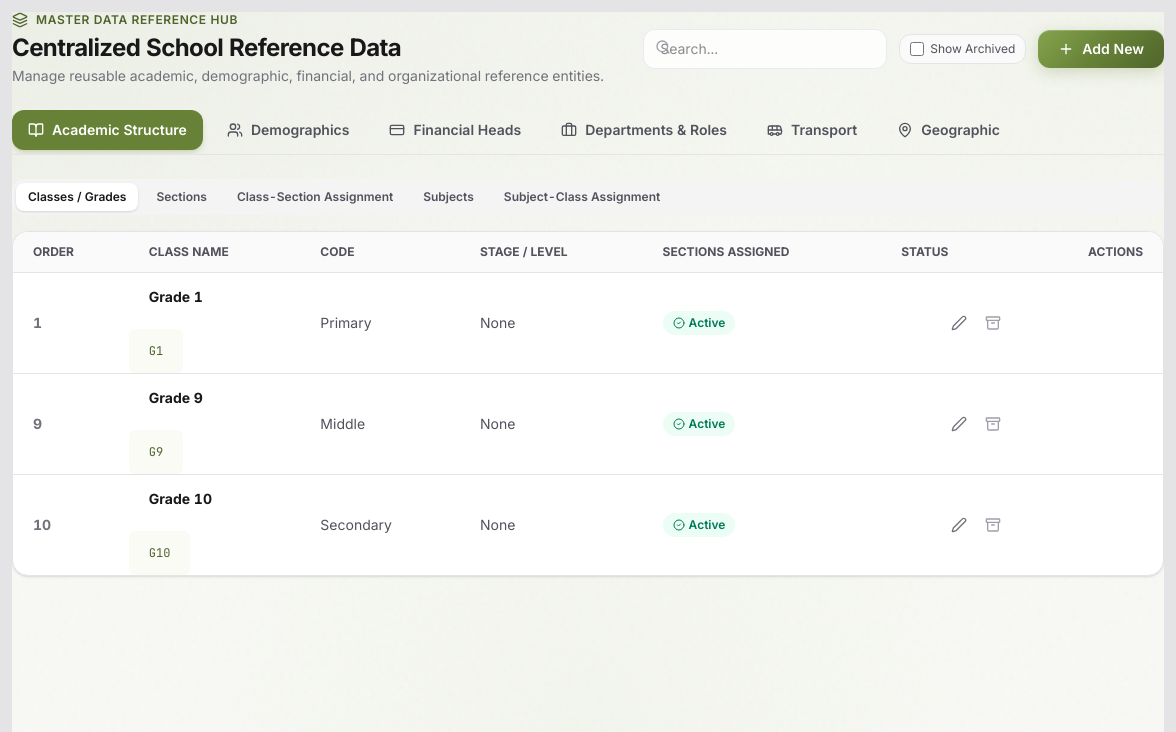
Test: MasterData Search and Filtering Unit Tests › resets search query when switching academic sub-tabs
Type "Grade 1" into the field with placeholder "Search..." at coordinates (765, 49), box top-left (643, 29), bottom-right (887, 69)
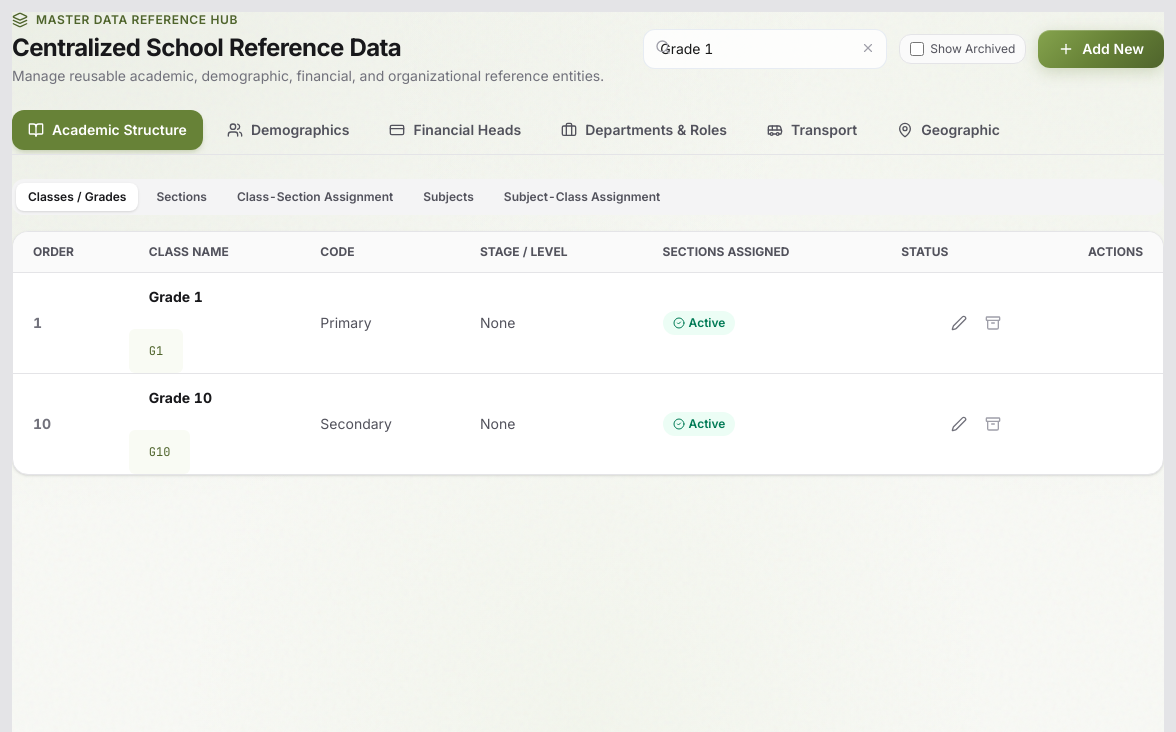
# Switch to Sections subtab
Click the button "Sections" at coordinates (182, 197), box top-left (144, 183), bottom-right (219, 211)
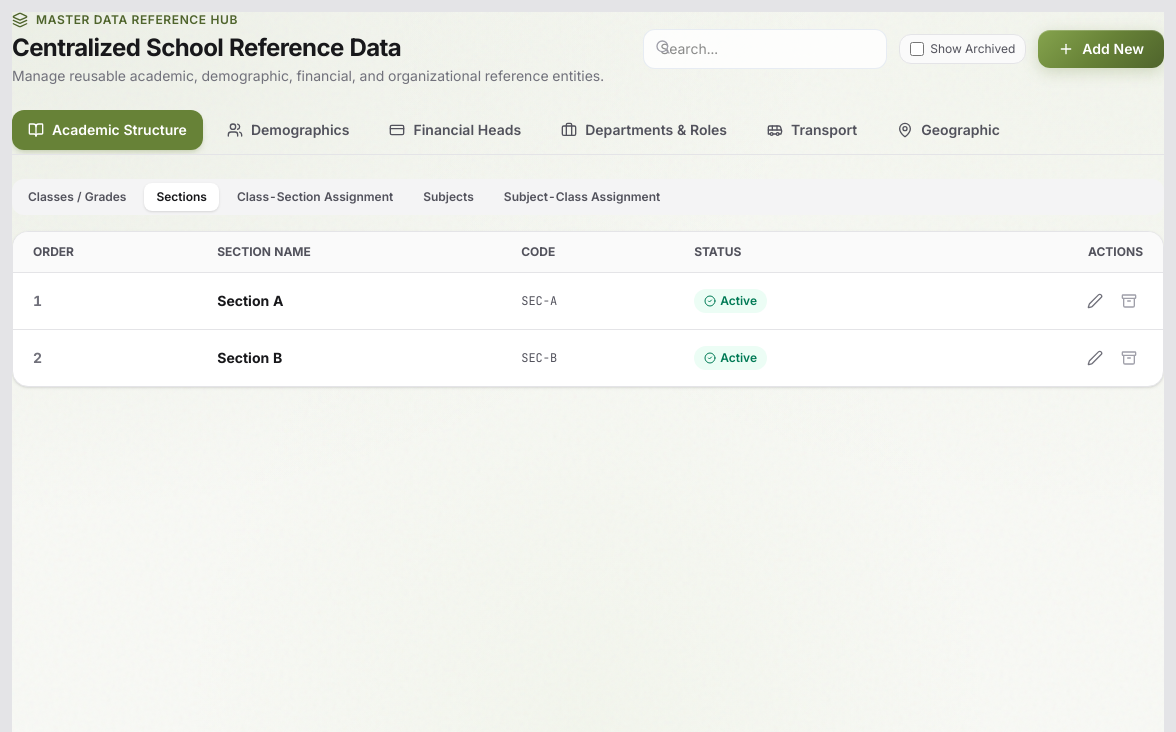
Check: the field with placeholder "Search..." is empty, box top-left (643, 29), bottom-right (887, 69)
Check: the text "Section A" is shown, box top-left (197, 272), bottom-right (501, 330)
